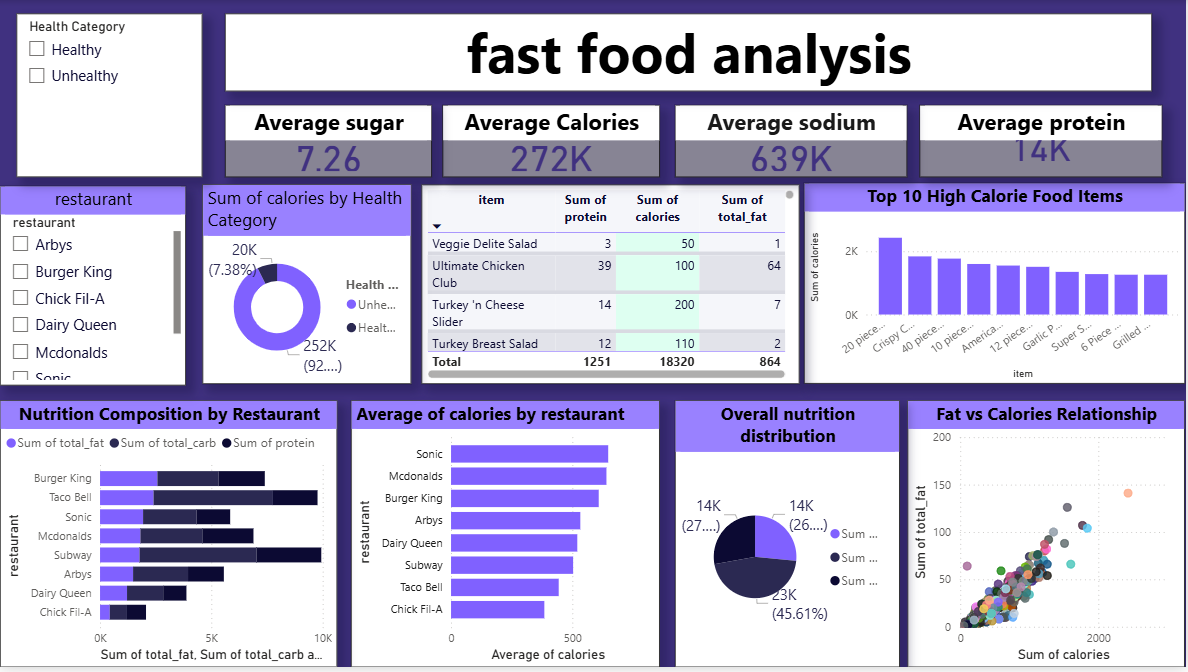

Layout of this report page (visuals, bound fields, positions):
{"tool":"powerbi","page":{"name":"Page 1","canvas":[1280,720],"ordinal":0},"visuals":[{"type":"clusteredBarChart","fields":{"Category":["Fast_food_analysis.restaurant"],"Y":["Avg(Fast_food_analysis.calories)"]},"box":[378.9,432.3,333.6,288.2],"z":0},{"type":"clusteredColumnChart","title":"Top 10 High Calorie Food Items","fields":{"Category":["Fast_food_analysis.item"],"Y":["Sum(Fast_food_analysis.calories)"]},"box":[867.9,197.5,411.3,217],"z":1000},{"type":"barChart","title":"Nutrition Composition by Restaurant","fields":{"Category":["Fast_food_analysis.restaurant"],"Y":["Sum(Fast_food_analysis.total_fat)","Sum(Fast_food_analysis.total_carb)","Sum(Fast_food_analysis.protein)"]},"box":[0,432.3,364.3,288.2],"z":2000},{"type":"scatterChart","title":"Fat vs Calories Relationship","fields":{"X":["Sum(Fast_food_analysis.calories)"],"Y":["Sum(Fast_food_analysis.total_fat)"],"Category":["Fast_food_analysis.item"]},"box":[979.6,432.3,299.6,288.2],"z":3000},{"type":"pieChart","title":"Overall nutrition distribution","fields":{"Y":["Sum(Fast_food_analysis.total_fat)","Sum(Fast_food_analysis.total_carb)","Sum(Fast_food_analysis.protein)"]},"box":[728.7,432.3,242.9,288.2],"z":4000},{"type":"tableEx","fields":{"Values":["Fast_food_analysis.item","Sum(Fast_food_analysis.protein)","Sum(Fast_food_analysis.calories)","Sum(Fast_food_analysis.total_fat)"]},"box":[455,199.2,408,215.4],"z":5000},{"type":"card","title":"Average Calories","fields":{"Values":["Sum(Fast_food_analysis.calories)"]},"box":[477.7,113.3,234.8,77.7],"z":6000},{"type":"card","title":"Average protein","fields":{"Values":["Sum(Fast_food_analysis.protein)"]},"box":[992.6,113.3,262.3,77.7],"z":7000},{"type":"card","title":"Average sugar","fields":{"Values":["Avg(Fast_food_analysis.sugar)"]},"box":[242.9,113.3,223.5,77.7],"z":8000},{"type":"card","title":"Average sodium","fields":{"Values":["Sum(Fast_food_analysis.sodium)"]},"box":[728.7,113.3,251,77.7],"z":9000},{"type":"textbox","title":"fast food analysis","box":[242.9,14.6,1000.7,84.2],"z":10000},{"type":"slicer","title":"restaurant","fields":{"Values":["Fast_food_analysis.restaurant"]},"box":[0,200.8,200.8,215.4],"z":11000},{"type":"donutChart","fields":{"Category":["Fast_food_analysis.Health Category"],"Y":["Sum(Fast_food_analysis.calories)"]},"box":[218.6,199.2,225.1,215.4],"z":12000},{"type":"slicer","fields":{"Values":["Fast_food_analysis.Health Category"]},"box":[17.8,14.6,200.8,176.5],"z":13000}]}

Visuals, with their boxes in screenshot pixels (x1, y1, x2, y2), scaled from the page's 1280x720 canvas onto the 1188x672 screenshot:
clusteredBarChart - Fast_food_analysis.restaurant x Avg(Fast_food_analysis.calories): x1=352, y1=403, x2=661, y2=671
"Top 10 High Calorie Food Items" clusteredColumnChart: x1=806, y1=184, x2=1187, y2=387
"Nutrition Composition by Restaurant" barChart: x1=0, y1=403, x2=338, y2=671
"Fat vs Calories Relationship" scatterChart: x1=909, y1=403, x2=1187, y2=671
"Overall nutrition distribution" pieChart: x1=676, y1=403, x2=902, y2=671
tableEx - Fast_food_analysis.item x Sum(Fast_food_analysis.protein): x1=422, y1=186, x2=801, y2=387
"Average Calories" card: x1=443, y1=106, x2=661, y2=178
"Average protein" card: x1=921, y1=106, x2=1165, y2=178
"Average sugar" card: x1=225, y1=106, x2=433, y2=178
"Average sodium" card: x1=676, y1=106, x2=909, y2=178
"fast food analysis" textbox: x1=225, y1=14, x2=1154, y2=92
"restaurant" slicer: x1=0, y1=187, x2=186, y2=388
donutChart - Fast_food_analysis.Health Category x Sum(Fast_food_analysis.calories): x1=203, y1=186, x2=412, y2=387
slicer - Fast_food_analysis.Health Category: x1=17, y1=14, x2=203, y2=178
